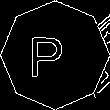P_N: (37, 30, 73, 80)
